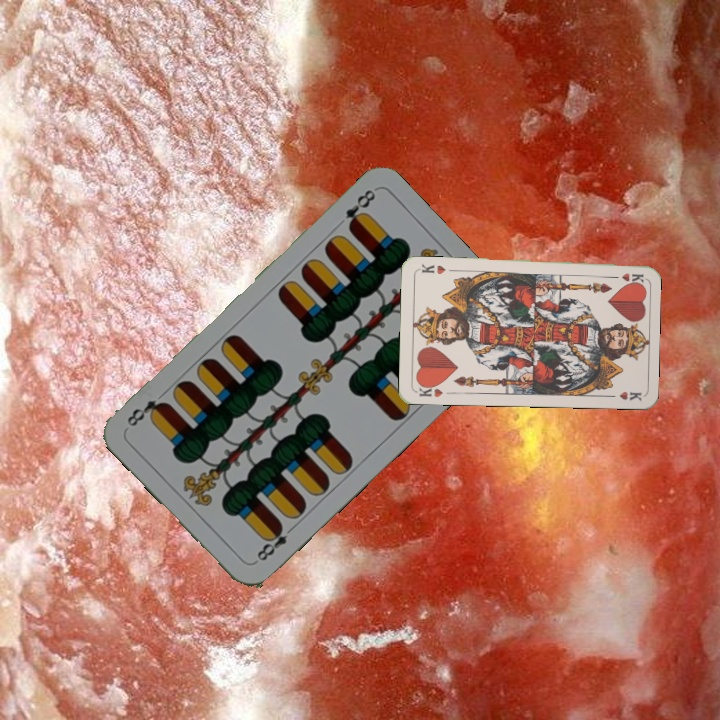E8: (252, 519, 298, 564), (341, 185, 378, 233)
HK: (415, 380, 454, 400), (604, 269, 645, 284)
